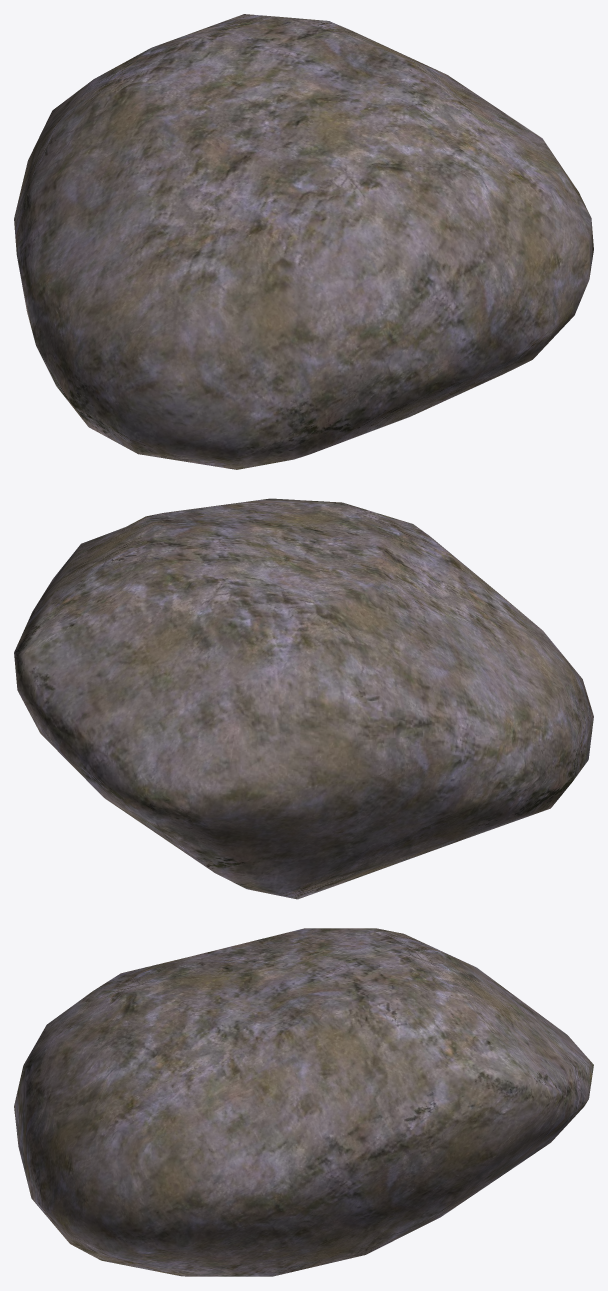
Rendered from stone.glb.
The picture shows the model from 3 angles, top to bottom: view 1: azimuth 30°, elevation 25°; view 2: azimuth 150°, elevation 25°; view 3: azimuth 270°, elevation 25°; orthographic projection. The views are drawn at different scales.
Parts seen in each view (by area): view 1: Object_2; view 2: Object_2; view 3: Object_2.
Boxes of the visible parts, bbox=[...] form: Object_2: bbox=[14, 14, 593, 469]; Object_2: bbox=[14, 498, 593, 899]; Object_2: bbox=[14, 928, 593, 1276].
Bounding box in the file's own units: 65.33 × 40.17 × 68.63.
1 material, 1 textured.
